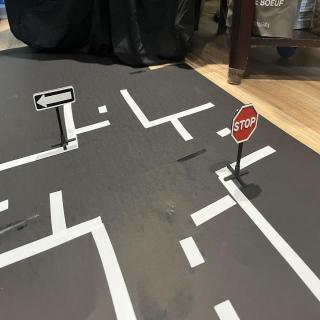sign_oneway_left: (34, 86, 77, 113)
sign_stop: (232, 105, 260, 145)
